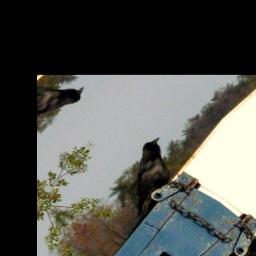Crow: (100, 133, 196, 218)
